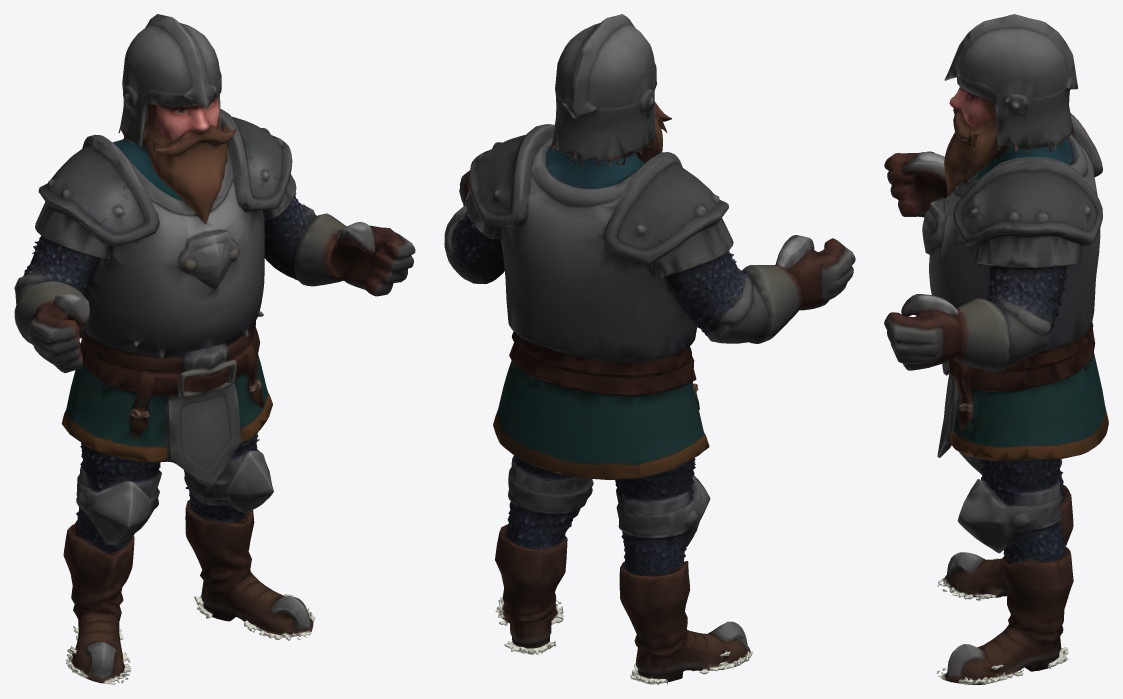
File: raw.glb
The picture shows the model from 3 angles, left to right: view 1: azimuth 30°, elevation 25°; view 2: azimuth 150°, elevation 25°; view 3: azimuth 270°, elevation 25°; orthographic projection. The views are drawn at different scales.
Parts seen in each view (by area): view 1: runebreaker/common_trellis_concept_52_s7; view 2: runebreaker/common_trellis_concept_52_s7; view 3: runebreaker/common_trellis_concept_52_s7.
Part boxes in pixels (x1,y1,x2,y2): runebreaker/common_trellis_concept_52_s7: (14, 14, 415, 684); runebreaker/common_trellis_concept_52_s7: (444, 14, 855, 684); runebreaker/common_trellis_concept_52_s7: (884, 14, 1108, 684).
Size of the model in its own units: 0.6261 by 1 by 0.3295.
1 material, 1 textured.
